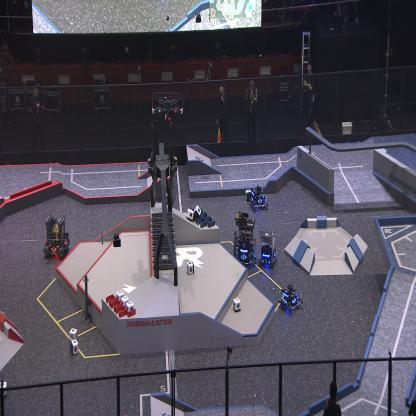car: (234, 215, 258, 268), (43, 212, 70, 258), (258, 229, 277, 267), (278, 284, 302, 313), (249, 184, 268, 212)
